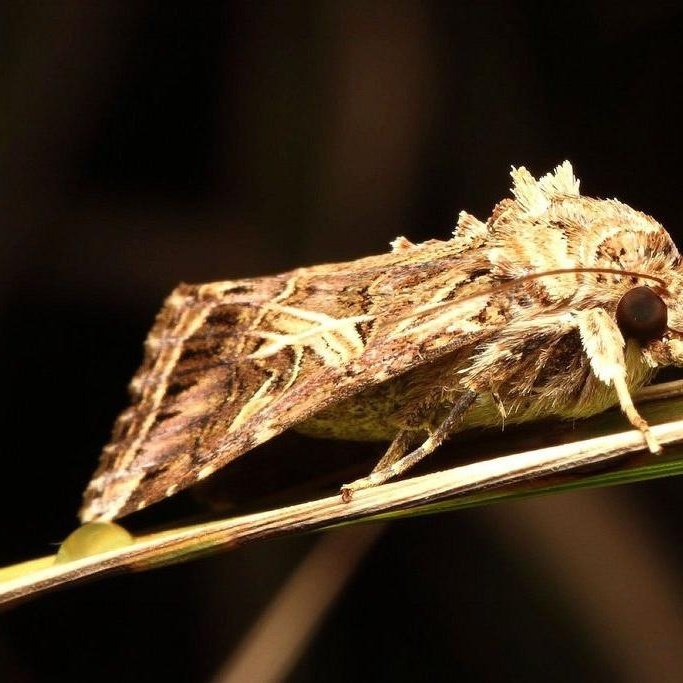Spodoptera litura: (77, 160, 682, 525)
